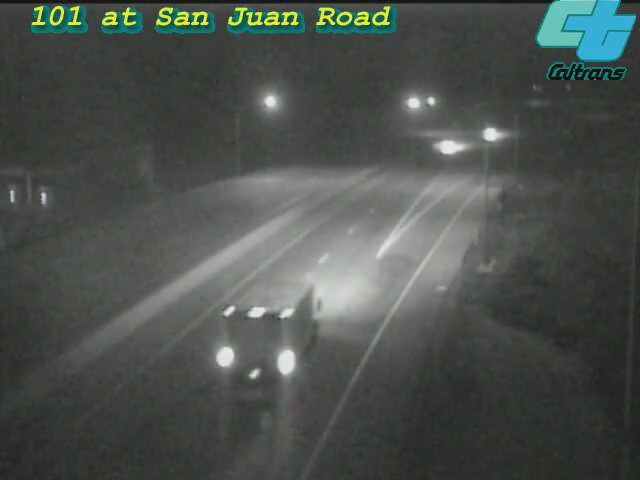vehicle: (194, 288, 304, 398), (464, 110, 514, 160), (423, 121, 473, 171)
